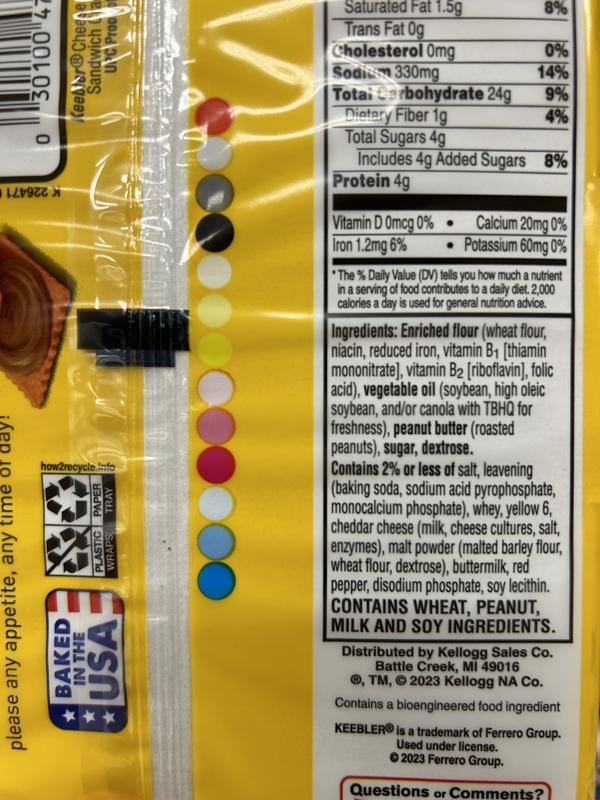ingredients: (328, 319, 559, 460)
